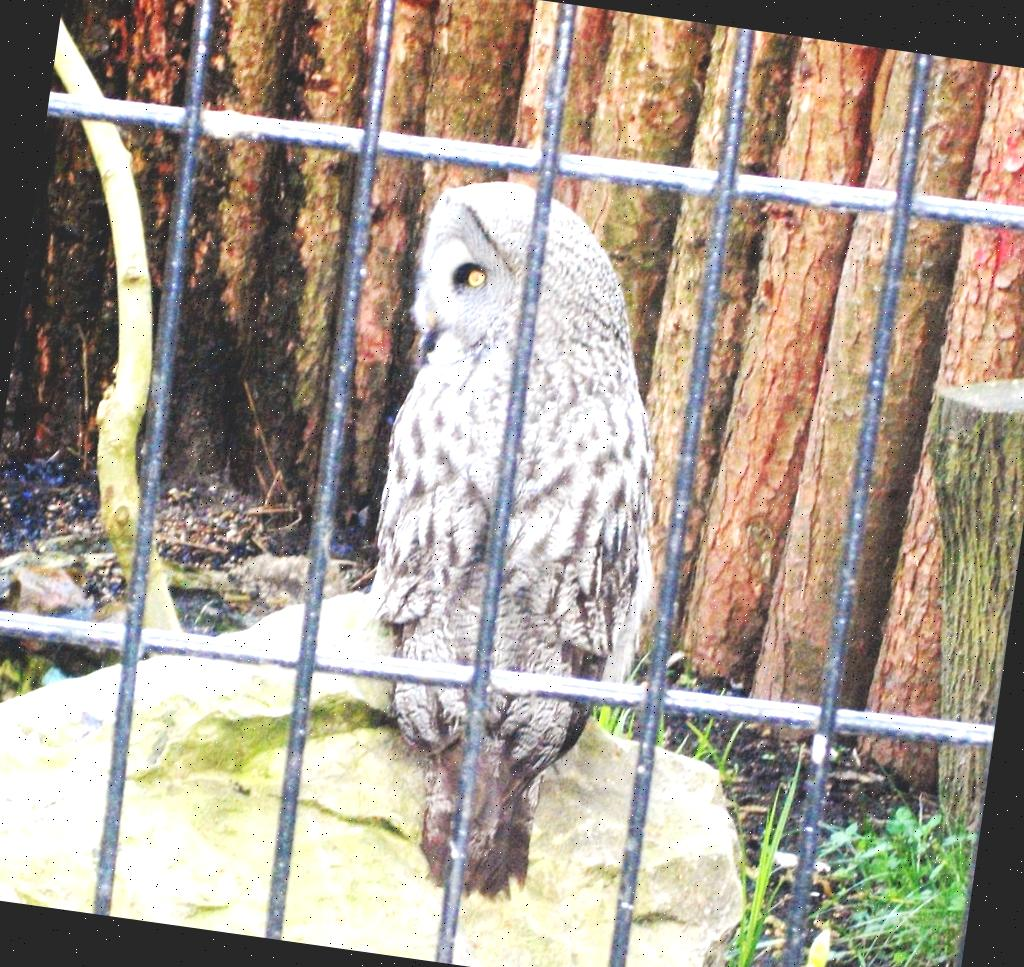Owl: (330, 167, 722, 916)
